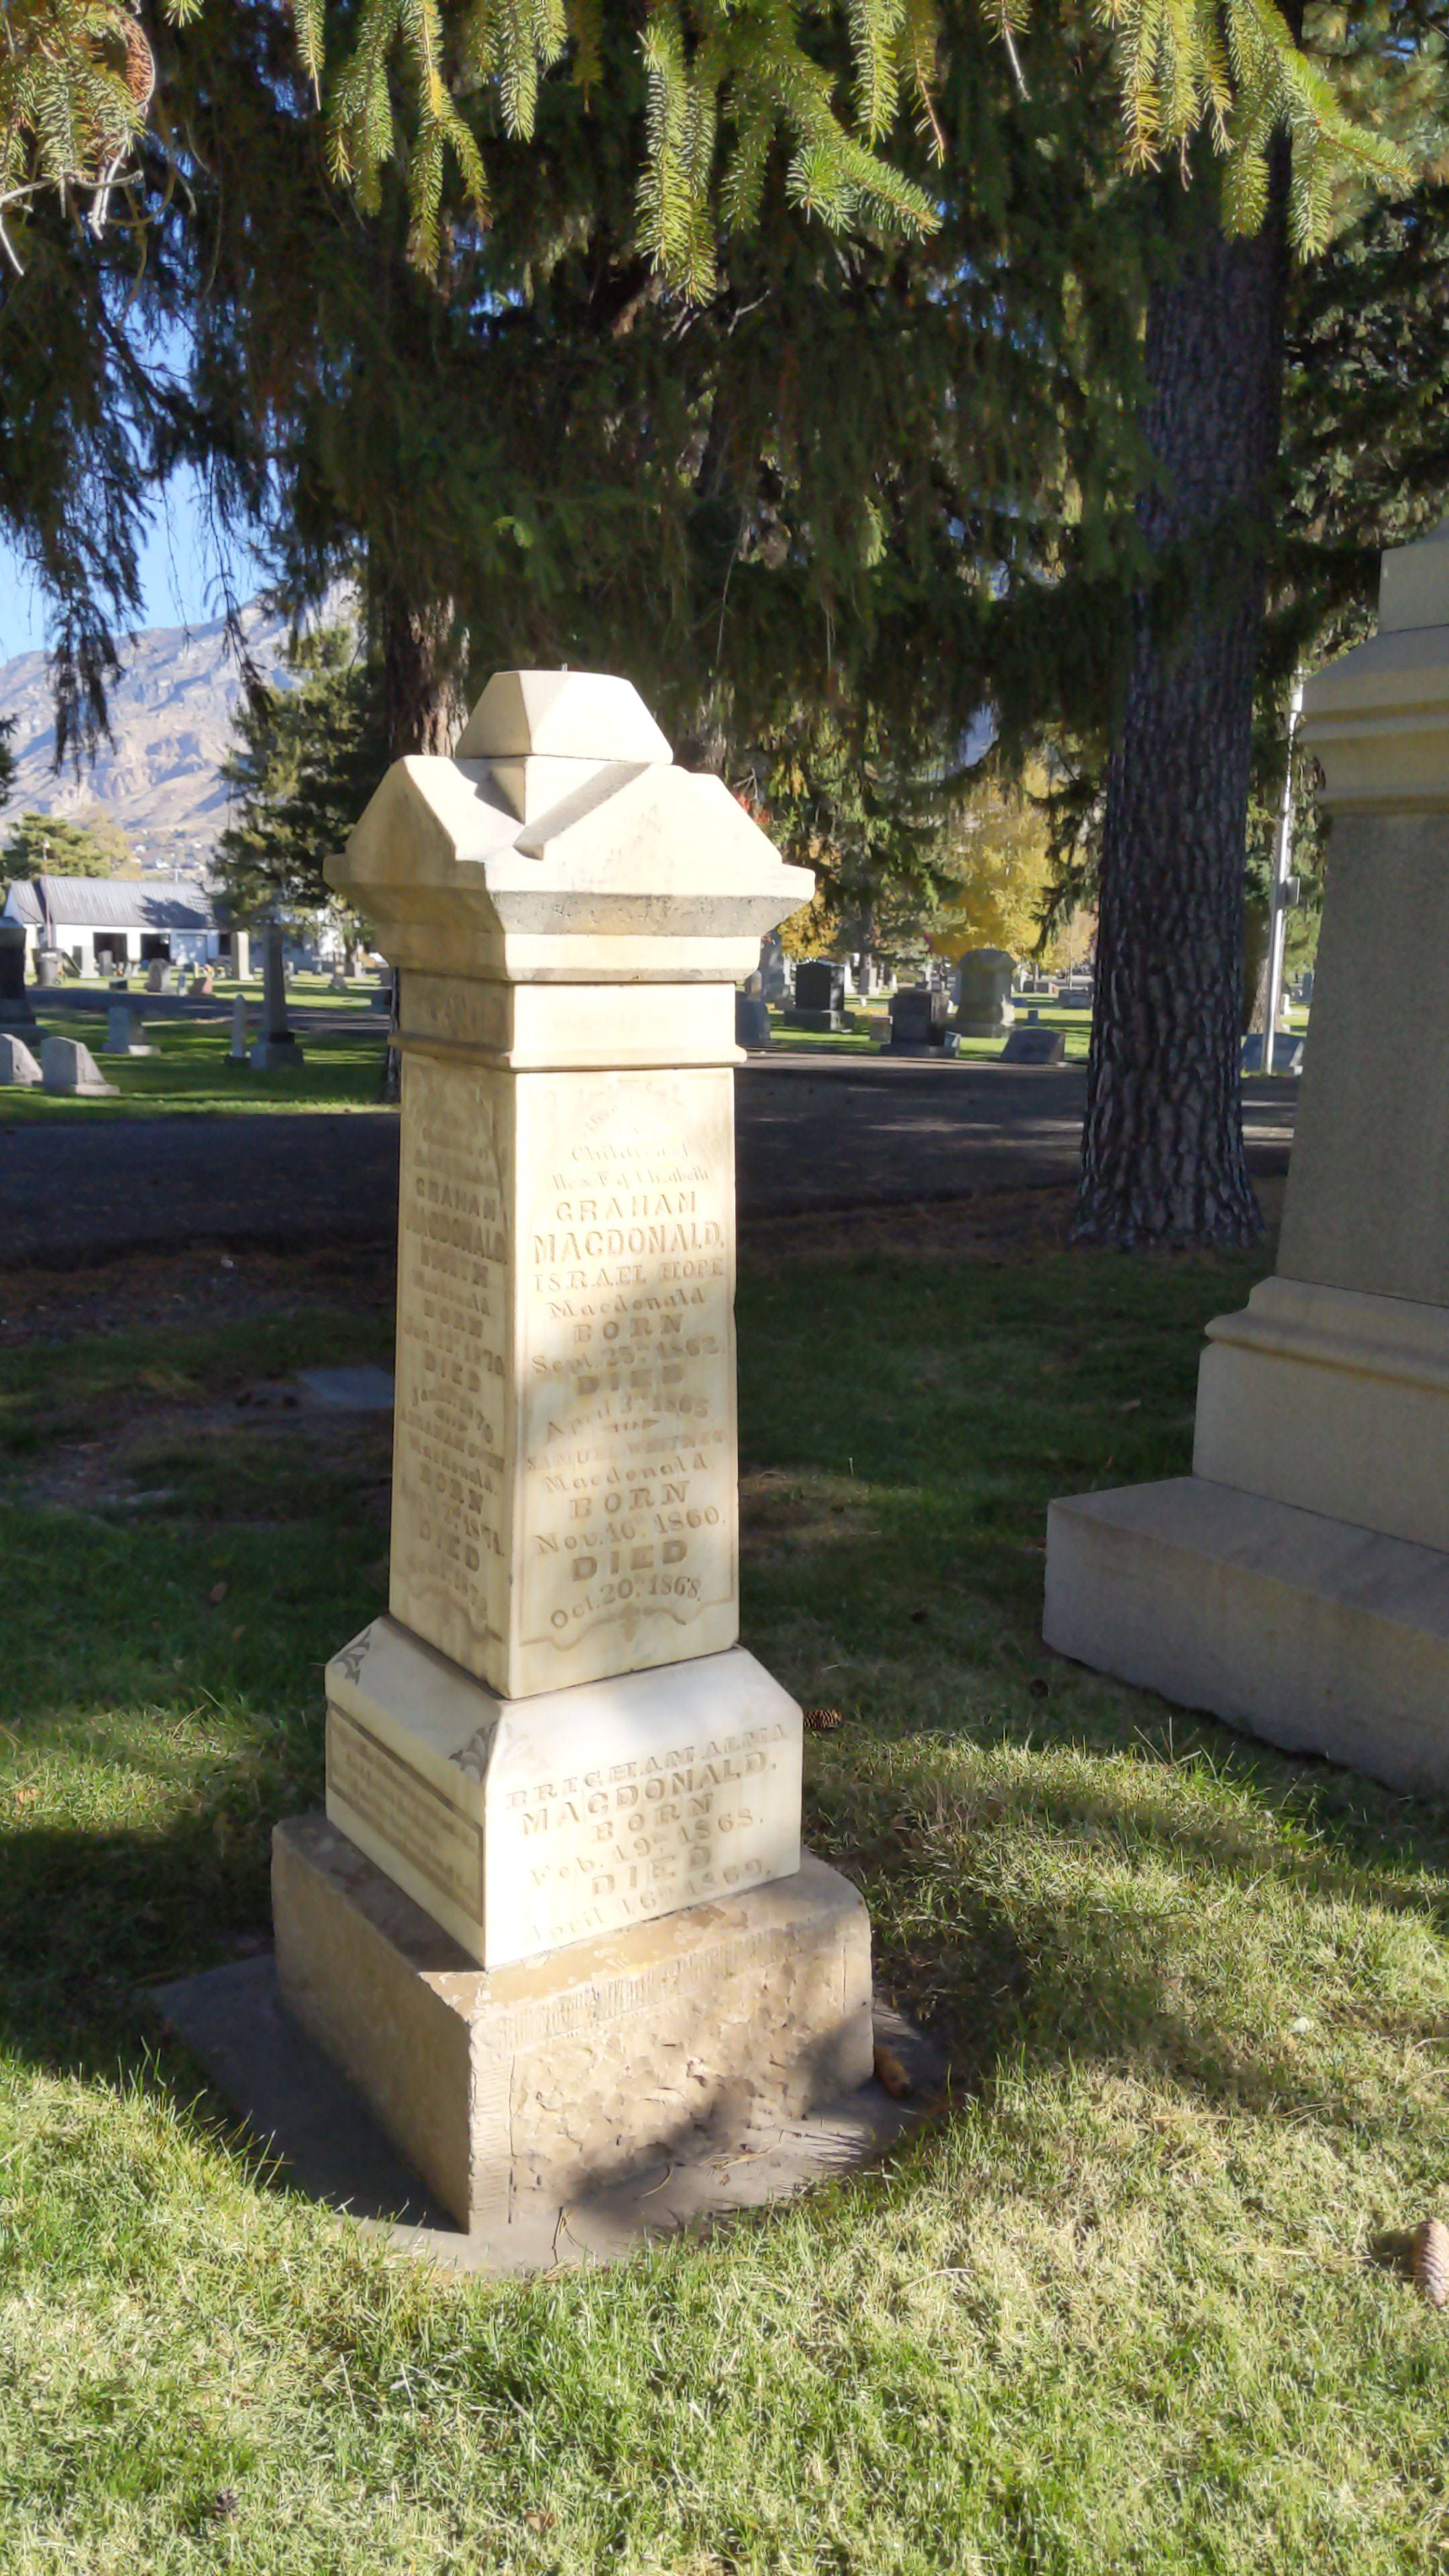obelisk: (324, 671, 812, 1976)
